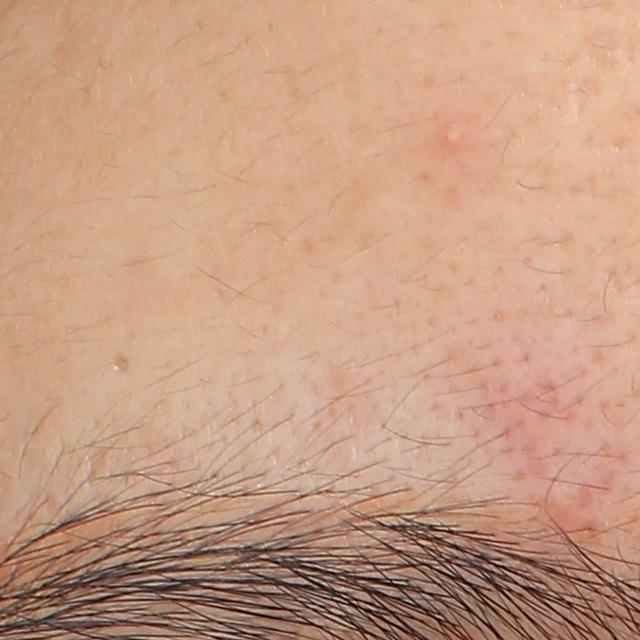atrophic_scar: (81, 442, 112, 490), (113, 352, 130, 373)
